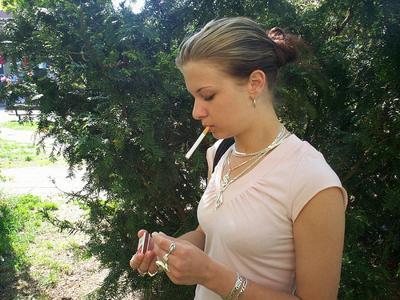person: (129, 14, 350, 300)
